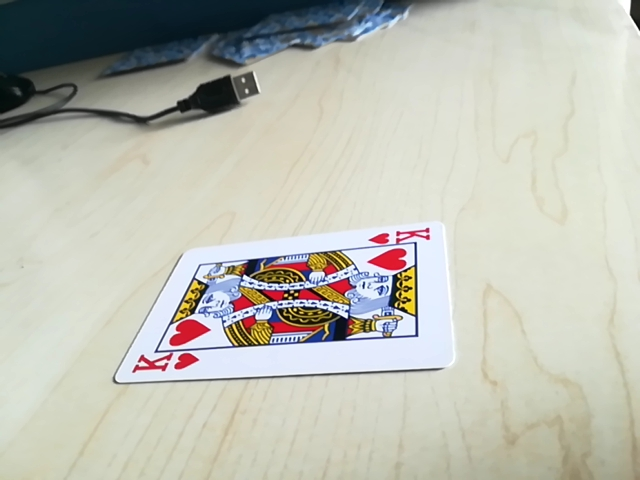hx k: (126, 351, 203, 381), (370, 225, 436, 250)
